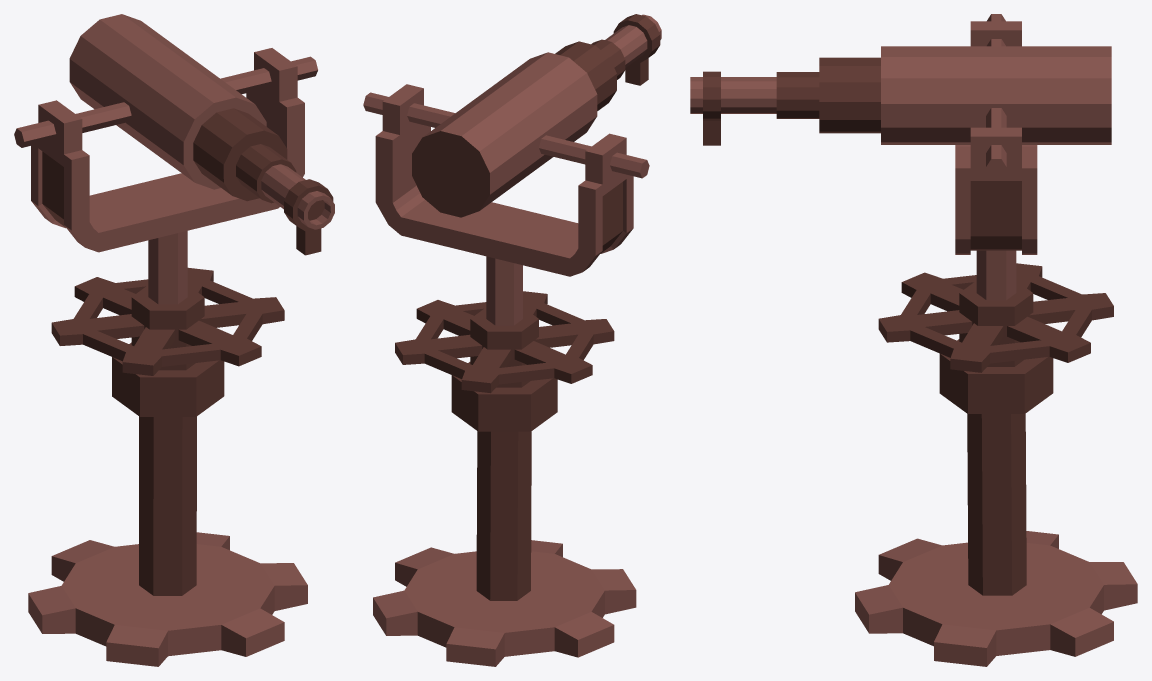
Rendered from gun.glb.
3 views of the same model, side by side, from view 1: azimuth 30°, elevation 25°; view 2: azimuth 150°, elevation 25°; view 3: azimuth 270°, elevation 25° (orthographic). The views are drawn at different scales.
Visible parts, largest first — view 1: Gun_Simple_Mid, Gun_Simple_Gun, Gun_Simple_Base; view 2: Gun_Simple_Mid, Gun_Simple_Gun, Gun_Simple_Base; view 3: Gun_Simple_Mid, Gun_Simple_Gun, Gun_Simple_Base.
Part boxes in pixels (<box>): Gun_Simple_Mid: <box>14,48,317,595</box>; Gun_Simple_Gun: <box>69,14,334,255</box>; Gun_Simple_Base: <box>28,532,307,666</box>; Gun_Simple_Mid: <box>363,84,649,600</box>; Gun_Simple_Gun: <box>412,14,661,217</box>; Gun_Simple_Base: <box>373,540,636,666</box>; Gun_Simple_Mid: <box>878,14,1113,595</box>; Gun_Simple_Gun: <box>690,46,1111,145</box>; Gun_Simple_Base: <box>855,531,1137,666</box>.
Size of the model in its own units: 0.9362 by 1.68 by 1.22.
